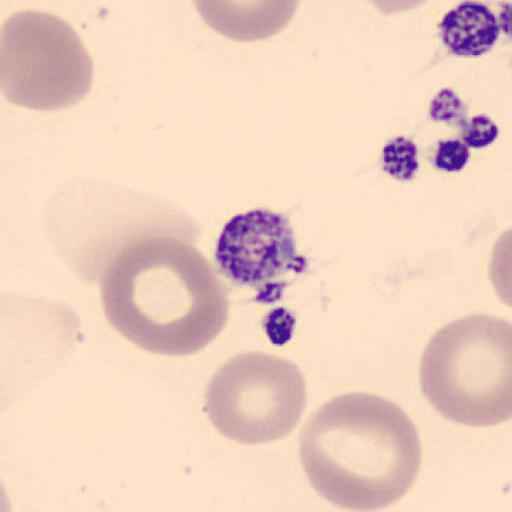Platelet: (434, 0, 509, 61), (374, 131, 424, 185)
RBC: (0, 288, 90, 504), (44, 176, 206, 287), (100, 233, 230, 359), (297, 388, 423, 512), (2, 288, 86, 426), (418, 310, 512, 430), (202, 349, 309, 448), (2, 7, 95, 113), (190, 0, 302, 44), (353, 0, 500, 17), (488, 222, 512, 313), (355, 0, 453, 18)
